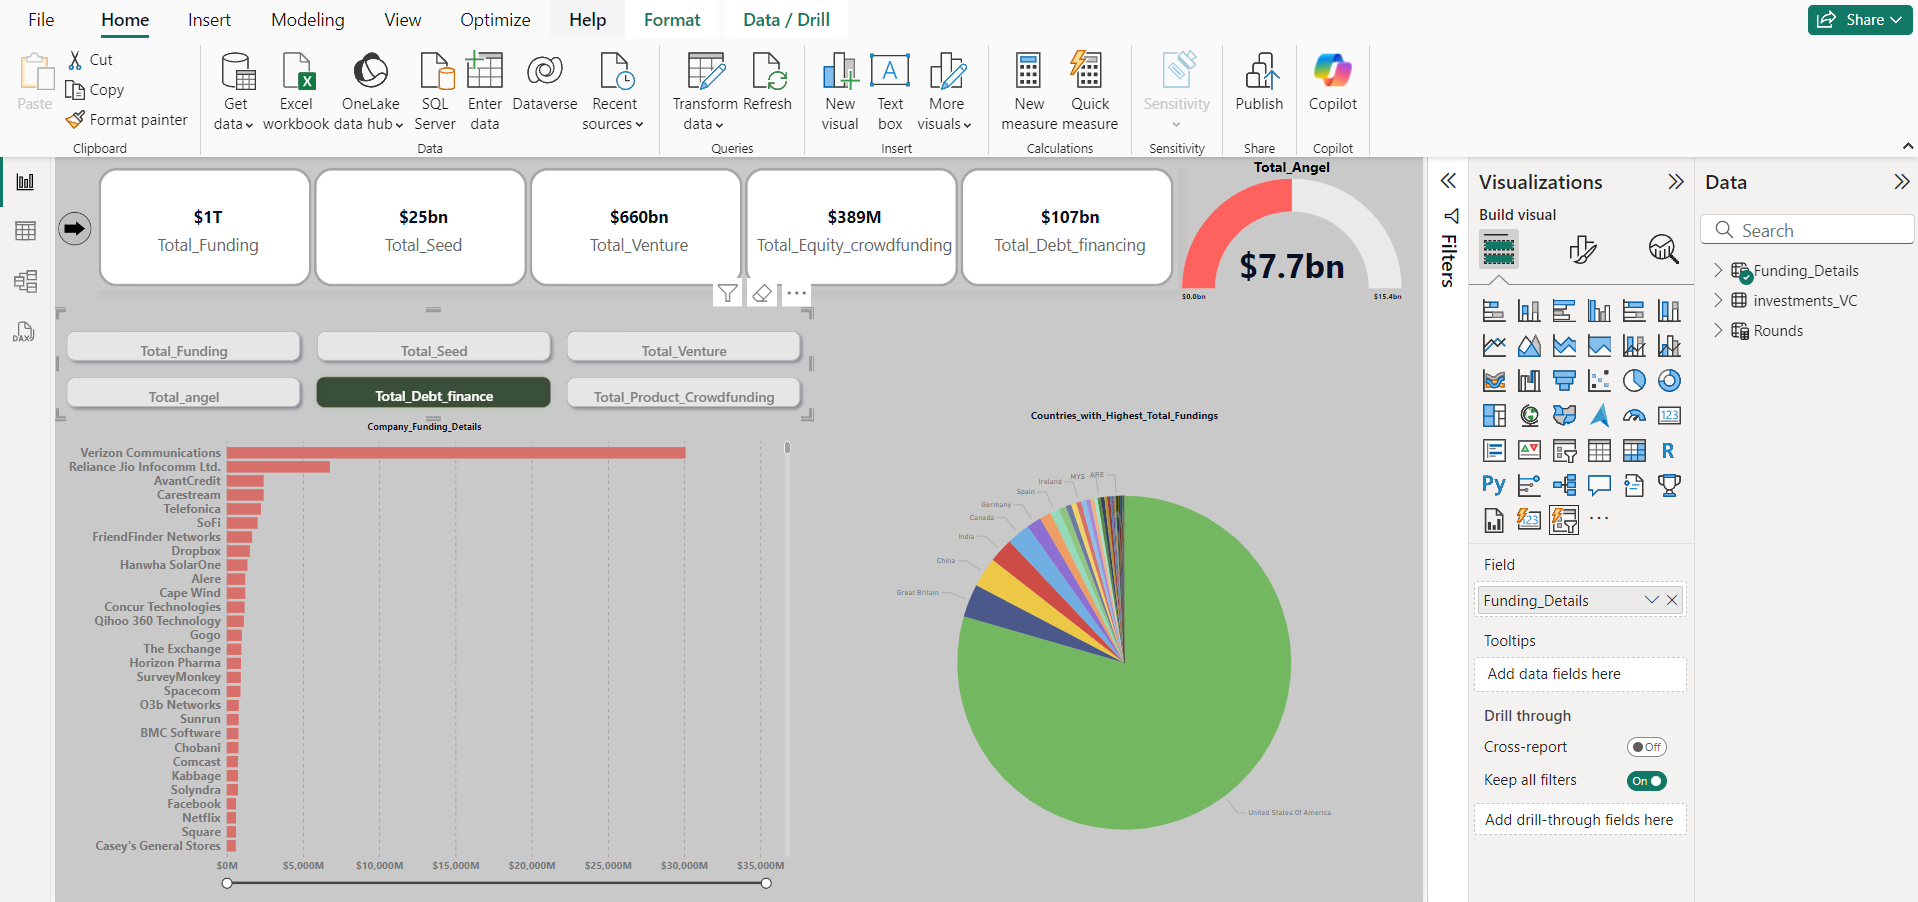

What the dashboard file says about the page in this screenshot:
{"tool":"powerbi","page":{"name":"Page 1","canvas":[1980,1080],"ordinal":0},"visuals":[{"type":"cardVisual","fields":{"Data":["investments_VC.Total_Funding","Sum(investments_VC.Seed)","Sum(investments_VC.Venture)","Sum(investments_VC.Equity_crowdfunding)","Sum(investments_VC.Debt_financing)"]},"box":[57.5,10,1567.5,182.5],"z":0},{"type":"gauge","title":"Total_Angel","fields":{"Y":["Sum(investments_VC.angel)"]},"box":[1602.4,0,378.6,219],"z":1000},{"type":"barChart","title":"Company_Funding_Details","fields":{"Y":["investments_VC.Total_Funding"],"Category":["investments_VC.Company_name"]},"box":[0,360.1,1069.5,702.1],"z":2000},{"type":"advancedSlicerVisual","fields":{"Values":["Funding_Details.Funding_Details"]},"box":[0,218.6,1097.4,161.3],"z":3000},{"type":"pieChart","fields":{"Category":["investments_VC.Country_name"],"Y":["investments_VC.Total_Funding"]},"box":[1116.6,342,863.2,738.3],"z":4000},{"type":"image","box":[0,62.5,57.5,80],"z":5000}]}

Visuals, with their boxes on the page's 1980x1080 design canvas (x1, y1, x2, y2). These are canvas units, not pixel positions in the 1918x902 screenshot, which may show the page scaled, cropped or inside an application window:
cardVisual - investments_VC.Total_Funding x Sum(investments_VC.Seed): <box>58,10,1625,192</box>
"Total_Angel" gauge: <box>1602,0,1981,219</box>
"Company_Funding_Details" barChart: <box>0,360,1070,1062</box>
advancedSlicerVisual - Funding_Details.Funding_Details: <box>0,219,1097,380</box>
pieChart - investments_VC.Country_name x investments_VC.Total_Funding: <box>1117,342,1980,1080</box>
image: <box>0,62,58,142</box>
